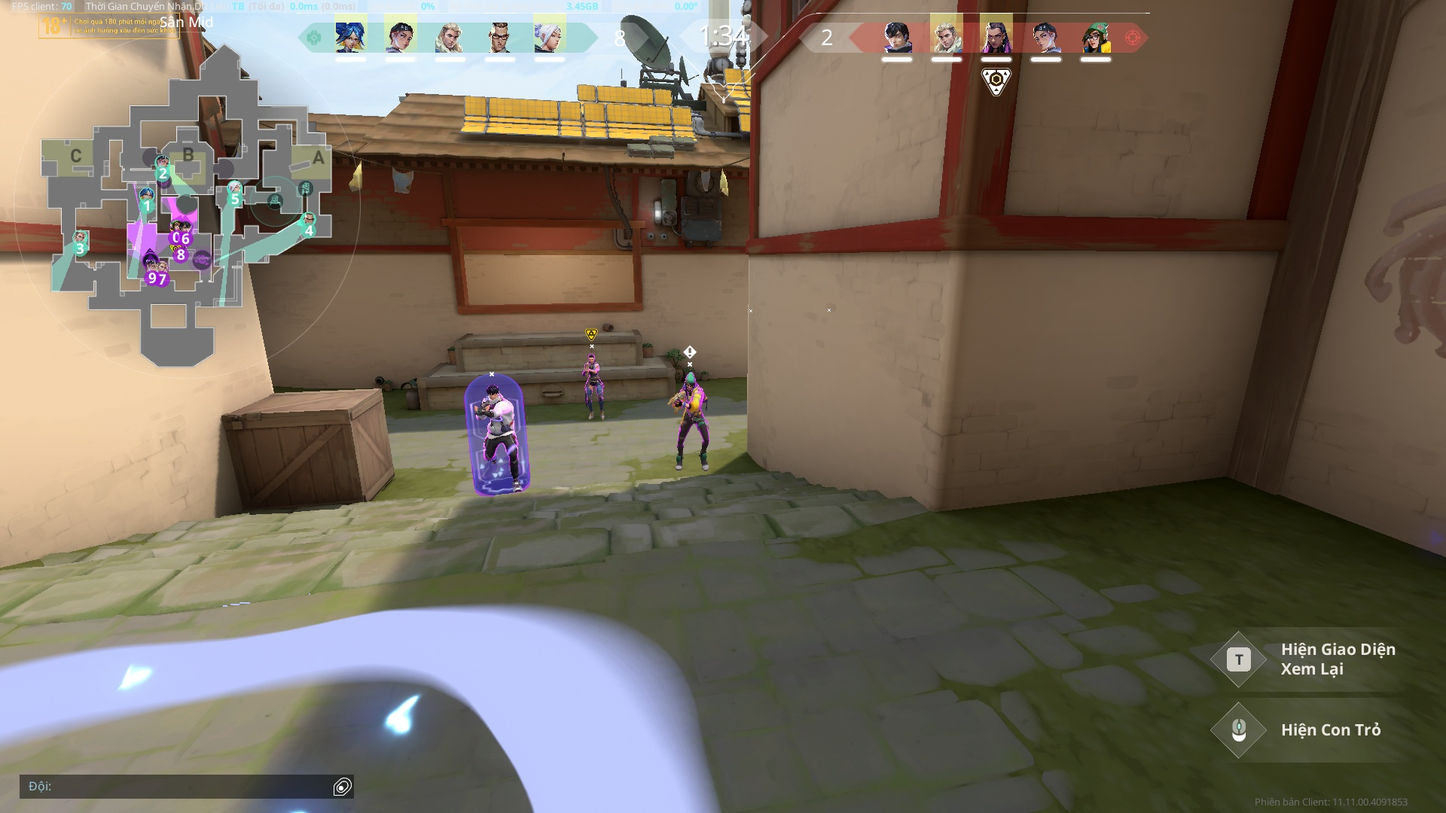body: (480, 397, 517, 428), (679, 385, 703, 410), (584, 361, 600, 380)
head: (485, 385, 501, 402), (684, 376, 697, 390), (587, 353, 596, 364)
